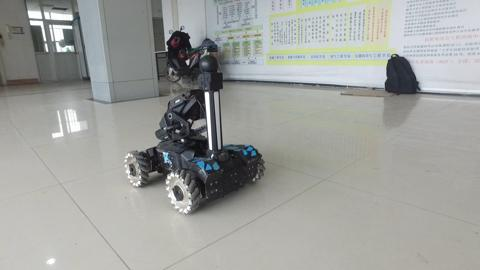bag: (377, 53, 427, 101)
chariot: (117, 54, 273, 216)
